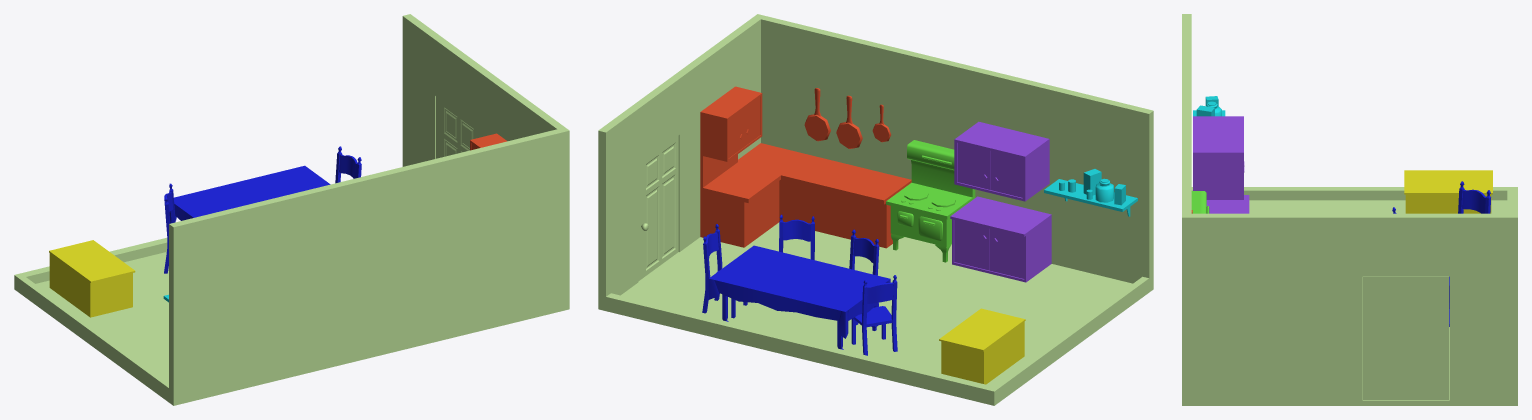
The model's file is KitchenEnv.fbx.
The picture shows the model from 3 angles, left to right: view 1: azimuth 30°, elevation 25°; view 2: azimuth 150°, elevation 25°; view 3: azimuth 270°, elevation 25°; orthographic projection. The views are drawn at different scales.
Parts seen in each view (by area): view 1: mesh_KitchenFloorWalls, mesh_KitchenTable, mesh_KitchenPotatoBox, mesh_KitchenPotatoBoxLid, mesh_KitchenDoor, mesh_KitchenChair4; view 2: mesh_KitchenFloorWalls, mesh_KitchenDeskA, mesh_KitchenTable, mesh_KitchenCupboards, mesh_KitchenStove, mesh_KitchenDoor, mesh_KitchenPotatoBox, mesh_KitchenShelf, mesh_KitchenPotatoBoxLid, mesh_KitchenChair1, mesh_KitchenDoorDL, mesh_KitchenDoorDR (+7 smaller); view 3: mesh_KitchenFloorWalls, mesh_KitchenDoor, mesh_KitchenCupboards, mesh_KitchenPotatoBoxLid, mesh_KitchenPotatoBox, mesh_KitchenChair1, mesh_KitchenShelf, mesh_KitchenStove.
Part boxes in pixels (left/top/right/bottom): mesh_KitchenFloorWalls: left=14, top=14, right=569, bottom=405; mesh_KitchenTable: left=169, top=165, right=330, bottom=223; mesh_KitchenPotatoBox: left=49, top=253, right=132, bottom=317; mesh_KitchenPotatoBoxLid: left=49, top=240, right=135, bottom=282; mesh_KitchenDoor: left=436, top=96, right=476, bottom=158; mesh_KitchenChair4: left=335, top=146, right=361, bottom=183; mesh_KitchenFloorWalls: left=598, top=14, right=1153, bottom=405; mesh_KitchenDeskA: left=700, top=86, right=911, bottom=248; mesh_KitchenTable: left=708, top=245, right=890, bottom=349; mesh_KitchenCupboards: left=950, top=121, right=1051, bottom=282; mesh_KitchenStove: left=886, top=140, right=975, bottom=262; mesh_KitchenDoor: left=638, top=135, right=678, bottom=281; mesh_KitchenPotatoBox: left=941, top=321, right=1024, bottom=384; mesh_KitchenShelf: left=1044, top=169, right=1137, bottom=216; mesh_KitchenPotatoBoxLid: left=939, top=308, right=1025, bottom=351; mesh_KitchenChair1: left=851, top=275, right=897, bottom=355; mesh_KitchenDoorDL: left=954, top=220, right=989, bottom=270; mesh_KitchenDoorDR: left=990, top=228, right=1024, bottom=278; mesh_KitchenFloorWalls: left=1182, top=14, right=1517, bottom=405; mesh_KitchenDoor: left=1363, top=276, right=1448, bottom=399; mesh_KitchenCupboards: left=1193, top=116, right=1249, bottom=213; mesh_KitchenPotatoBoxLid: left=1404, top=170, right=1492, bottom=194; mesh_KitchenPotatoBox: left=1405, top=194, right=1491, bottom=213; mesh_KitchenChair1: left=1458, top=181, right=1490, bottom=213; mesh_KitchenShelf: left=1193, top=96, right=1225, bottom=116; mesh_KitchenStove: left=1191, top=191, right=1209, bottom=213.
Bounding box in the file's own units: 441 × 190 × 307.
